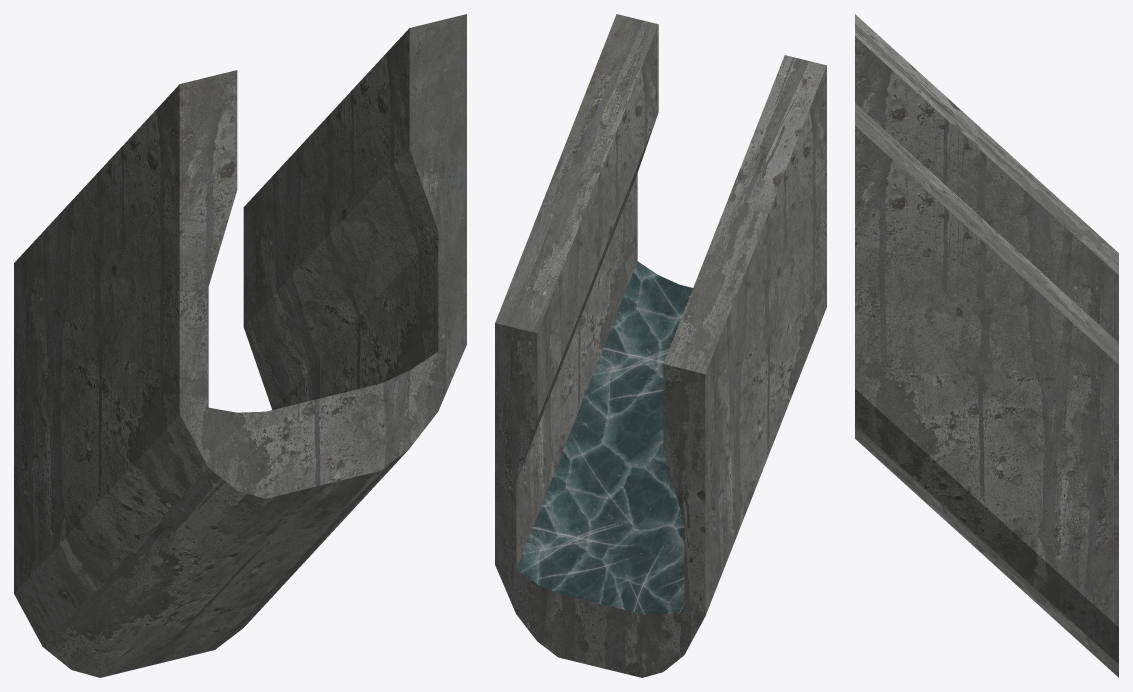
The model's file is Dragonfly_IceSlide_Straight_Capped.fbx.
3 views of the same model, side by side, from view 1: azimuth 30°, elevation 25°; view 2: azimuth 150°, elevation 25°; view 3: azimuth 270°, elevation 25° (orthographic). The views are drawn at different scales.
Visible parts, largest first — view 1: Straight Slide (Capped Ends); view 2: Straight Slide (Capped Ends); view 3: Straight Slide (Capped Ends).
Part boxes in pixels (bbox=[...]): Straight Slide (Capped Ends): bbox=[14, 14, 466, 677]; Straight Slide (Capped Ends): bbox=[495, 14, 826, 677]; Straight Slide (Capped Ends): bbox=[855, 14, 1118, 677].
Bounding box in the file's own units: 10 × 24.5 × 10.
